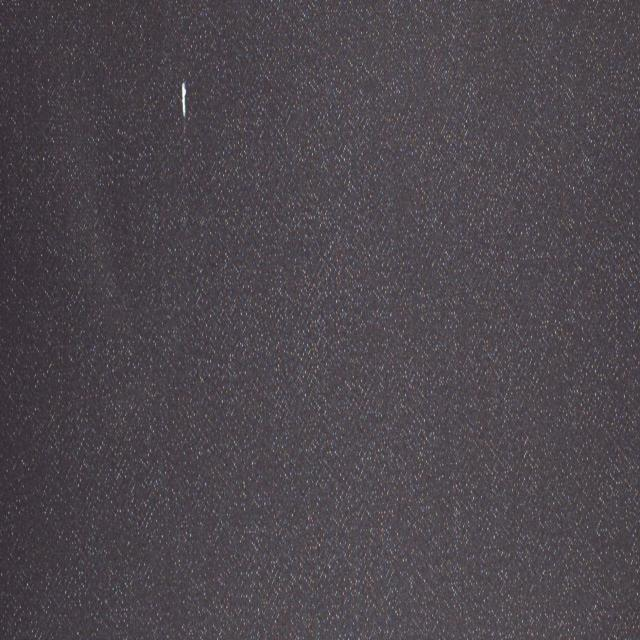Knot: (181, 81, 187, 118)
